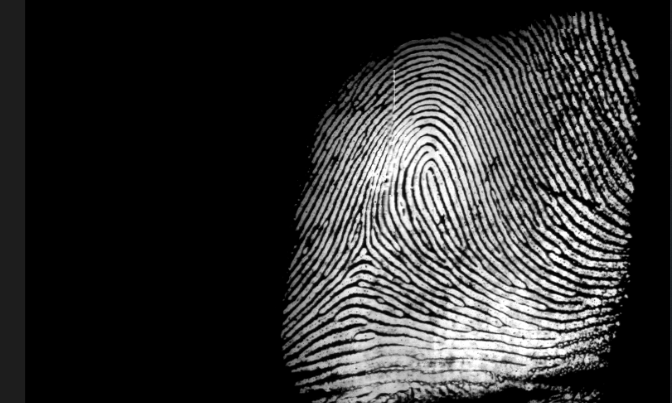deltas: (339, 226, 388, 274)
nucleo: (410, 154, 452, 211)
